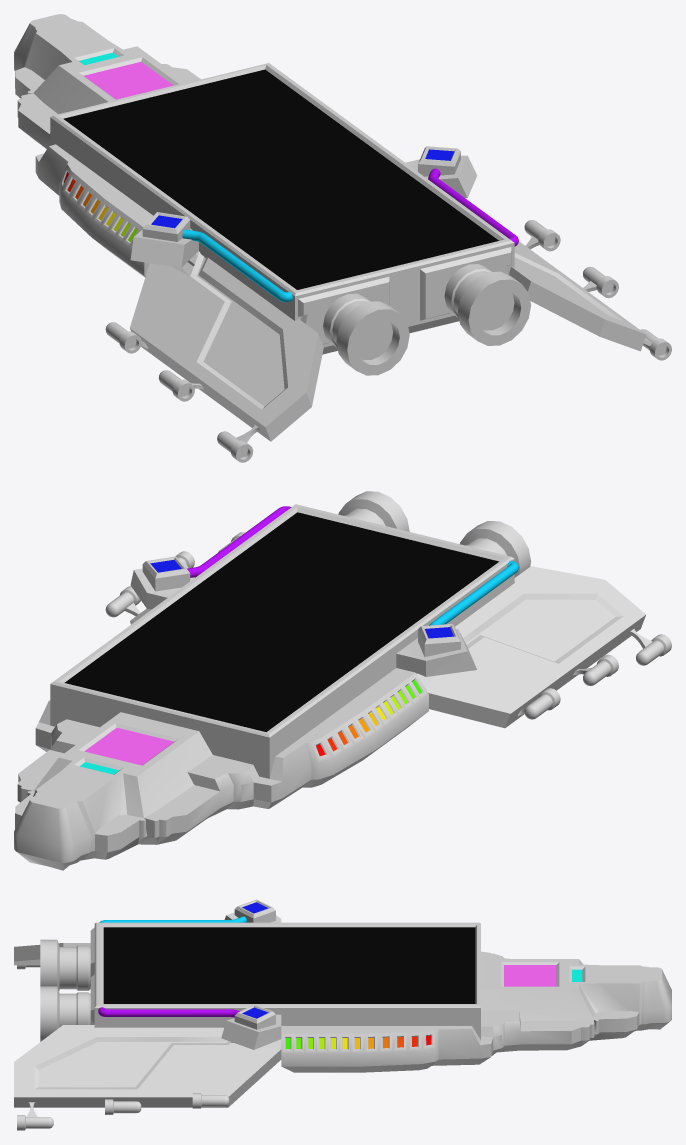
The model's file is SM_Ship_Main.fbx.
3 views of the same model, one above another, from view 1: azimuth 30°, elevation 25°; view 2: azimuth 150°, elevation 25°; view 3: azimuth 270°, elevation 25° (orthographic). The views are drawn at different scales.
Parts seen in each view (by area): view 1: SM_Ship, MainScreen, WingLeft, WingRight, NextScreen, BonusTubeLeft, BonusBoxLeft, BonusBoxRight, BonusTubeRight; view 2: SM_Ship, MainScreen, WingLeft, NextScreen, BonusBoxRight, BonusBoxLeft, WingRight, BonusTubeLeft, BonusTubeRight; view 3: SM_Ship, MainScreen, WingRight, NextScreen, BonusTubeRight, BonusBoxRight, BonusBoxLeft, WingLeft, BonusTubeLeft.
Part boxes in pixels (bbox=[...]): SM_Ship: bbox=[14, 14, 531, 375]; MainScreen: bbox=[63, 69, 498, 289]; WingLeft: bbox=[105, 252, 323, 462]; WingRight: bbox=[509, 220, 671, 360]; NextScreen: bbox=[83, 62, 173, 99]; BonusTubeLeft: bbox=[182, 229, 292, 302]; BonusBoxLeft: bbox=[142, 212, 190, 241]; BonusBoxRight: bbox=[418, 146, 460, 176]; BonusTubeRight: bbox=[428, 168, 518, 246]; SM_Ship: bbox=[14, 491, 531, 870]; MainScreen: bbox=[64, 512, 498, 731]; WingLeft: bbox=[417, 566, 671, 728]; NextScreen: bbox=[84, 727, 173, 765]; BonusBoxRight: bbox=[142, 556, 190, 591]; BonusBoxLeft: bbox=[418, 624, 460, 656]; WingRight: bbox=[105, 532, 244, 624]; BonusTubeLeft: bbox=[429, 560, 518, 625]; BonusTubeRight: bbox=[187, 506, 291, 577]; SM_Ship: bbox=[40, 912, 671, 1072]; MainScreen: bbox=[103, 927, 475, 1003]; WingRight: bbox=[14, 1025, 281, 1130]; NextScreen: bbox=[504, 965, 556, 986]; BonusTubeRight: bbox=[98, 1007, 239, 1017]; BonusBoxRight: bbox=[234, 1004, 275, 1029]; BonusBoxLeft: bbox=[234, 899, 275, 922]; WingLeft: bbox=[14, 943, 90, 969]; BonusTubeLeft: bbox=[99, 916, 246, 922].
Size of the model in its own units: 275 by 67.53 by 449.
